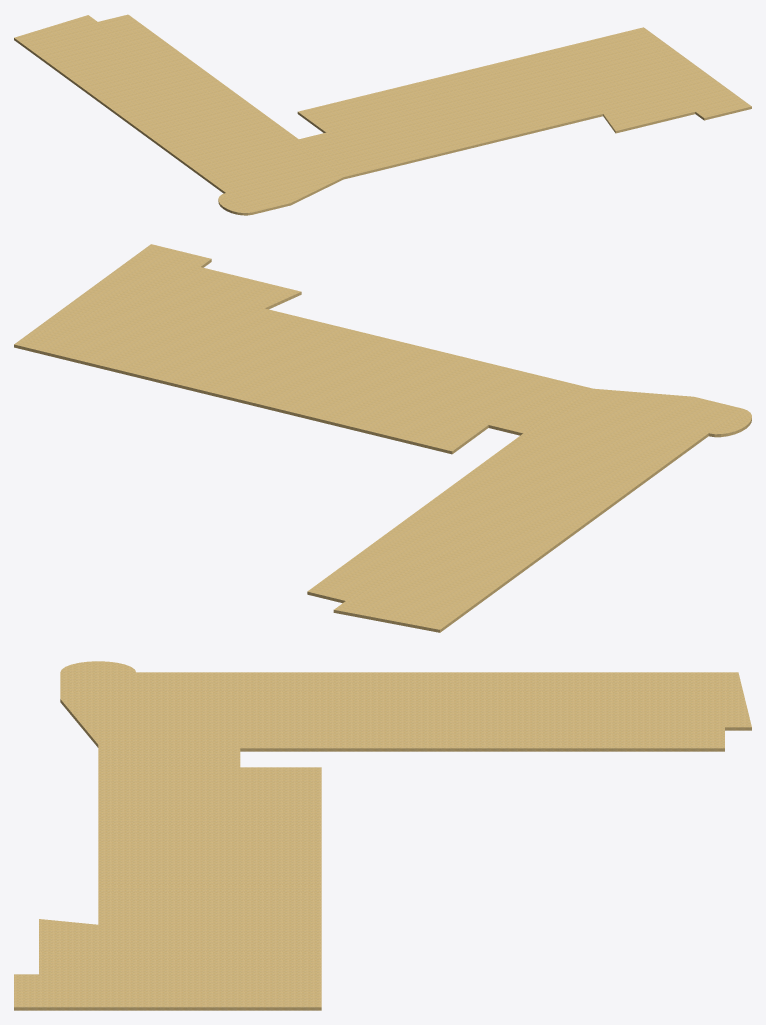
The model's file is Floor.dae.
3 views of the same model, one above another, from view 1: azimuth 30°, elevation 25°; view 2: azimuth 150°, elevation 25°; view 3: azimuth 270°, elevation 25° (orthographic). The views are drawn at different scales.
Parts seen in each view (by area): view 1: PlayUp_Floor; view 2: PlayUp_Floor; view 3: PlayUp_Floor.
Boxes of the visible parts, x1,y1,x2,y2 form: PlayUp_Floor: [14, 14, 751, 215]; PlayUp_Floor: [14, 244, 751, 632]; PlayUp_Floor: [14, 661, 751, 1010].
Bounding box in the file's own units: 78.72 × 0.36 × 70.94.
